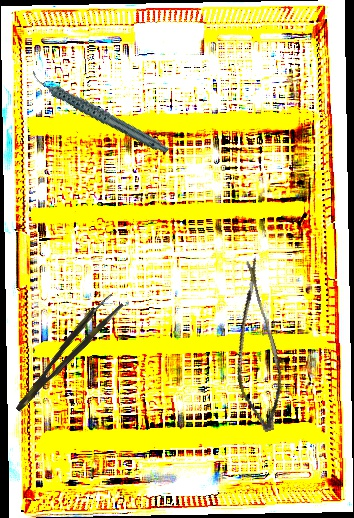Handpiece: (28, 46, 171, 179)
Micro Scissor: (204, 255, 306, 436)
Tissue Forceps: (5, 291, 125, 414)
